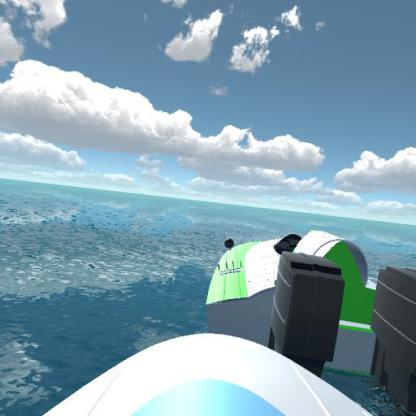usv0: (200, 223, 415, 384)
